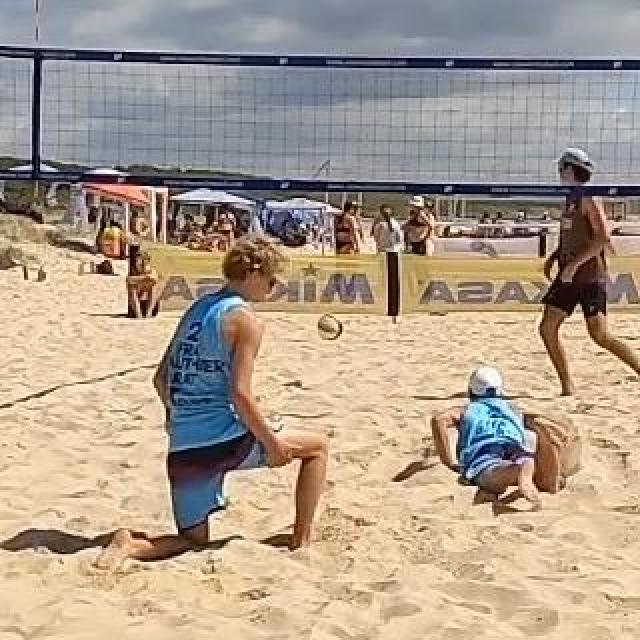volleyball: (317, 314, 343, 340)
